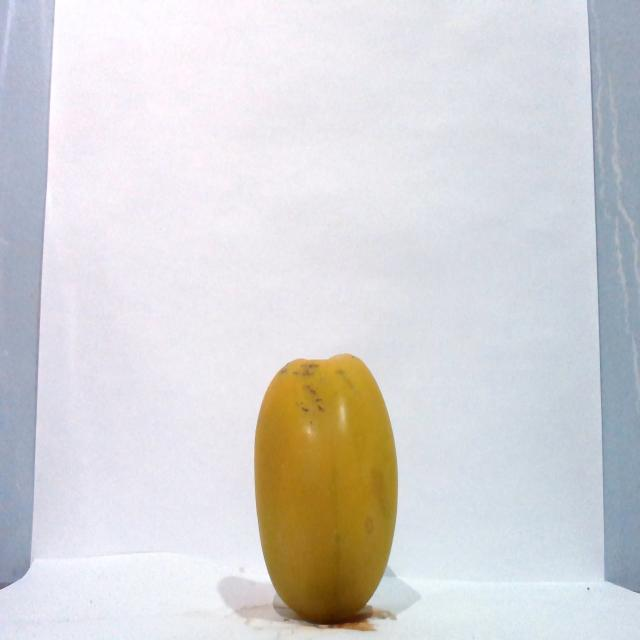Red: (252, 352, 399, 623)
